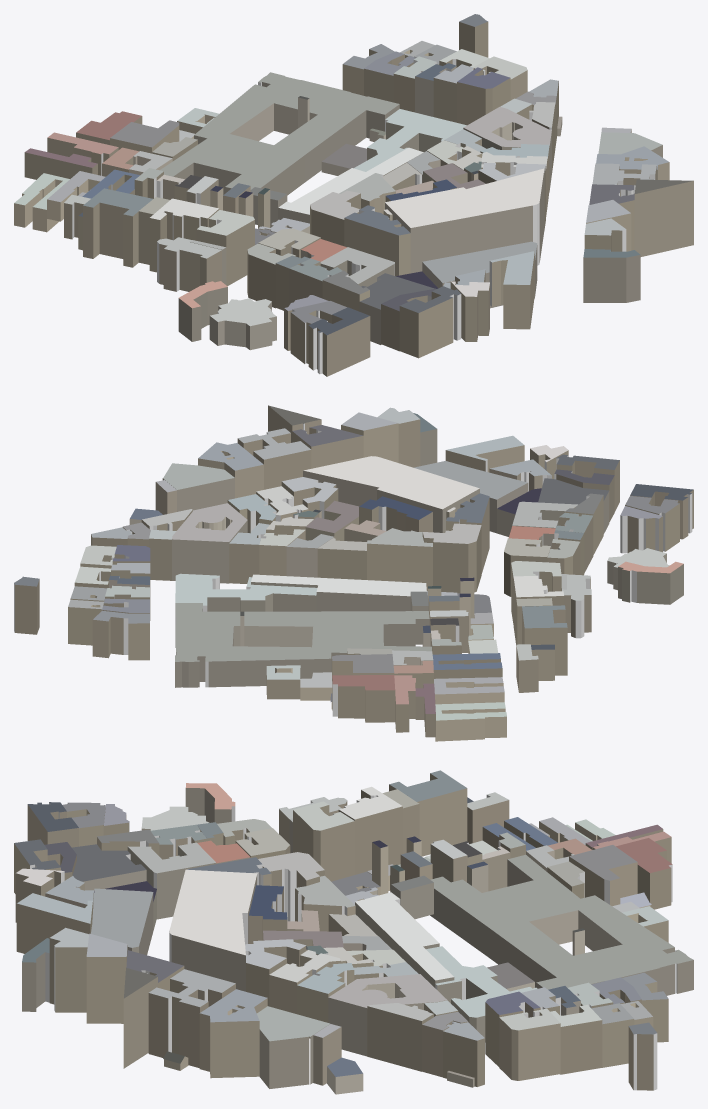
3 renders of one model, top to bottom at view 1: azimuth 30°, elevation 25°; view 2: azimuth 150°, elevation 25°; view 3: azimuth 270°, elevation 25°, orthographic. The views are drawn at different scales.
Parts seen in each view (by area): view 1: tuile; view 2: tuile; view 3: tuile.
Part boxes in pixels (bbox=[...]): tuile: bbox=[14, 14, 693, 376]; tuile: bbox=[14, 405, 693, 741]; tuile: bbox=[14, 770, 693, 1094].
Bounding box in the file's own units: 264 × 41.84 × 276.
